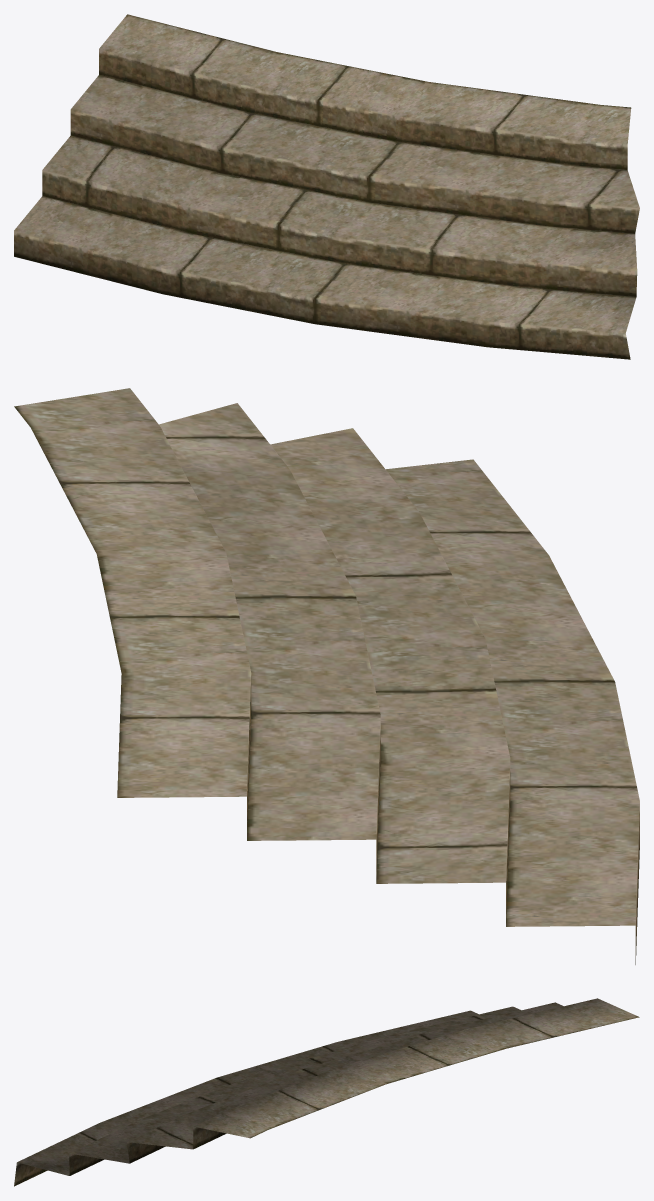
The model's file is EKH_THRONE_PS_TH_STEPS_04.fbx.
3 views of the same model, one above another, from view 1: azimuth 30°, elevation 25°; view 2: azimuth 150°, elevation 25°; view 3: azimuth 270°, elevation 25° (orthographic). The views are drawn at different scales.
Parts seen in each view (by area): view 1: EKH_THRONE_PS_TH_STEPS_04; view 2: EKH_THRONE_PS_TH_STEPS_04; view 3: EKH_THRONE_PS_TH_STEPS_04.
Part boxes in pixels (<box>): EKH_THRONE_PS_TH_STEPS_04: <box>14,14,639,359</box>; EKH_THRONE_PS_TH_STEPS_04: <box>14,388,639,964</box>; EKH_THRONE_PS_TH_STEPS_04: <box>14,998,639,1186</box>.
Size of the model in its own units: 54772 by 12845 by 68621.
Materials: 1 (1 with a texture image).
